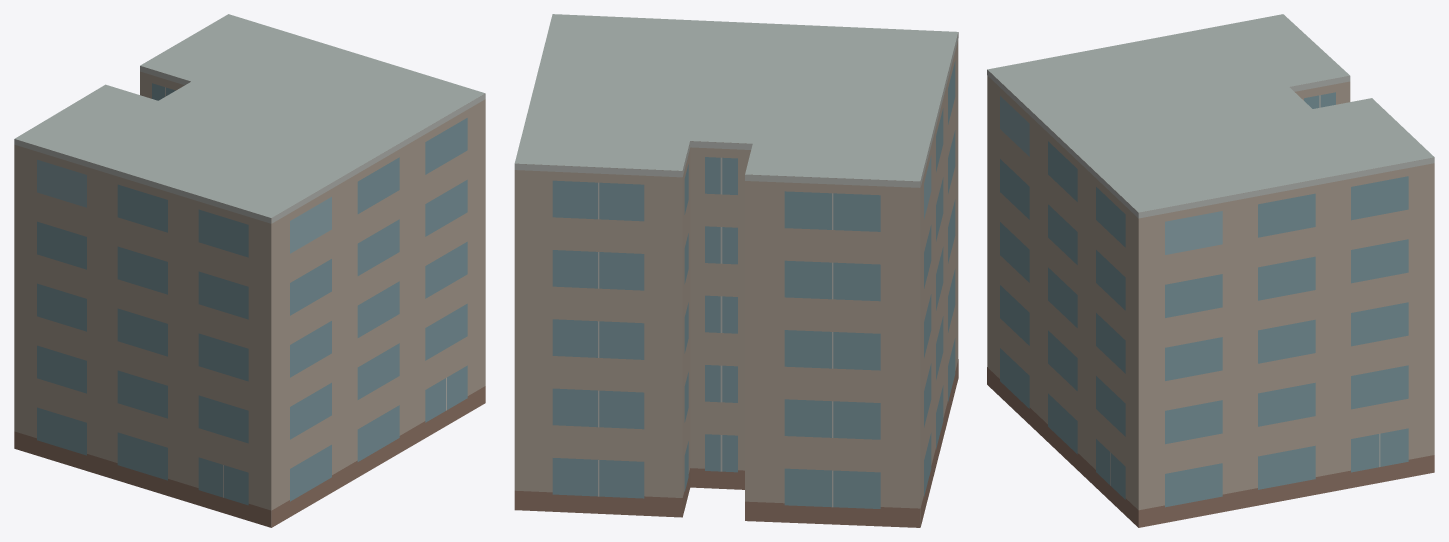
File: survey-upis-32964853.glb
3 renders of one model, left to right at view 1: azimuth 30°, elevation 25°; view 2: azimuth 150°, elevation 25°; view 3: azimuth 270°, elevation 25°, orthographic. The views are drawn at different scales.
Visible parts, largest first — view 1: survey-upis-32964853.tmp; view 2: survey-upis-32964853.tmp; view 3: survey-upis-32964853.tmp.
Boxes of the visible parts, left/top/right/bottom form: survey-upis-32964853.tmp: left=14, top=14, right=485, bottom=527; survey-upis-32964853.tmp: left=514, top=14, right=958, bottom=527; survey-upis-32964853.tmp: left=987, top=14, right=1434, bottom=527.
Bounding box in the file's own units: 17.72 × 13.1 × 16.86.
